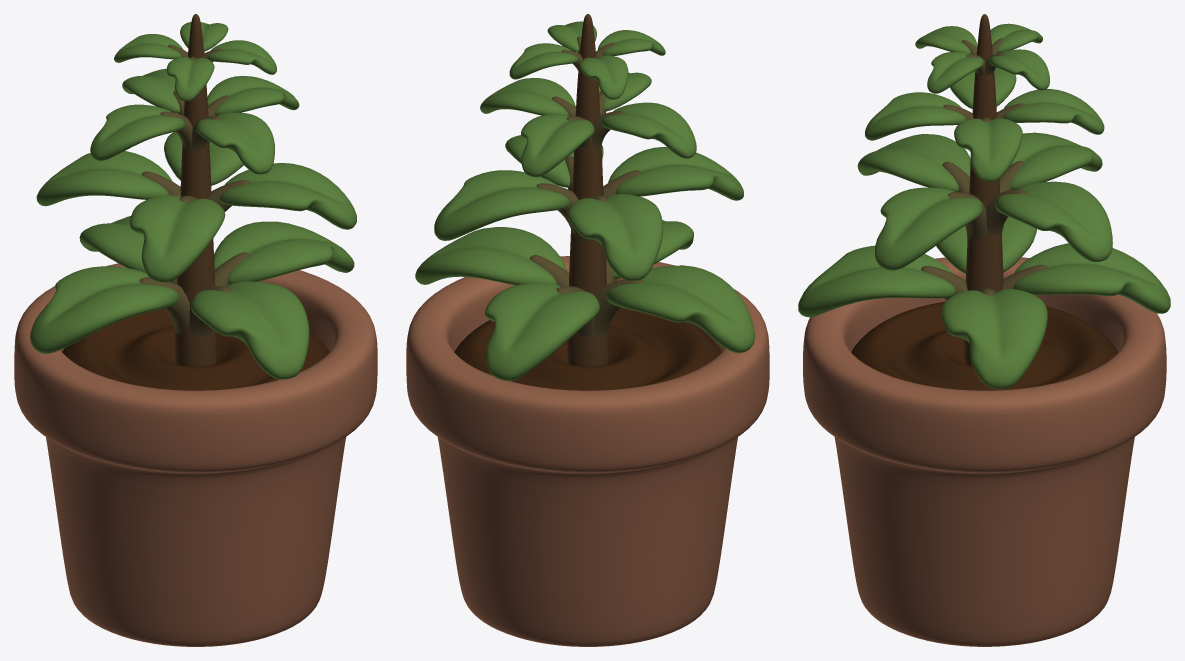
The model's file is Plant_Leafy_Grown_Pot.glb.
The picture shows the model from 3 angles, left to right: view 1: azimuth 30°, elevation 25°; view 2: azimuth 150°, elevation 25°; view 3: azimuth 270°, elevation 25°; orthographic projection.
Visible parts, largest first — view 1: Plant_Leafy_Grown_Pot_Body, Plant_Leafy_Grown_Pot_Soil, Plant_Leafy_Grown_Pot_Leaf02, Plant_Leafy_Grown_Pot_Leaf01, Plant_Leafy_Grown_Pot_Leaf04, Plant_Leafy_Grown_Pot_Leaf05, Plant_Leafy_Grown_Pot_Leaf08, Plant_Leafy_Grown_Pot_Stem, Plant_Leafy_Grown_Pot_Leaf06, Plant_Leafy_Grown_Pot_Leaf10, Plant_Leafy_Grown_Pot_Leaf09, Plant_Leafy_Grown_Pot_Leaf12 (+7 smaller); view 2: Plant_Leafy_Grown_Pot_Body, Plant_Leafy_Grown_Pot_Soil, Plant_Leafy_Grown_Pot_Leaf02, Plant_Leafy_Grown_Pot_Leaf03, Plant_Leafy_Grown_Pot_Leaf04, Plant_Leafy_Grown_Pot_Stem, Plant_Leafy_Grown_Pot_Leaf07, Plant_Leafy_Grown_Pot_Leaf06, Plant_Leafy_Grown_Pot_Leaf05, Plant_Leafy_Grown_Pot_Leaf10, Plant_Leafy_Grown_Pot_Leaf11, Plant_Leafy_Grown_Pot_Leaf12 (+7 smaller); view 3: Plant_Leafy_Grown_Pot_Body, Plant_Leafy_Grown_Pot_Soil, Plant_Leafy_Grown_Pot_Leaf04, Plant_Leafy_Grown_Pot_Leaf03, Plant_Leafy_Grown_Pot_Leaf01, Plant_Leafy_Grown_Pot_Leaf08, Plant_Leafy_Grown_Pot_Leaf07, Plant_Leafy_Grown_Pot_Leaf05, Plant_Leafy_Grown_Pot_Stem, Plant_Leafy_Grown_Pot_Leaf06, Plant_Leafy_Grown_Pot_Leaf12, Plant_Leafy_Grown_Pot_Leaf09 (+7 smaller).
Part boxes in pixels (x1,y1,x2,y2): Plant_Leafy_Grown_Pot_Body: [14, 263, 377, 646]; Plant_Leafy_Grown_Pot_Soil: [62, 308, 329, 390]; Plant_Leafy_Grown_Pot_Leaf02: [30, 266, 189, 353]; Plant_Leafy_Grown_Pot_Leaf01: [189, 281, 309, 379]; Plant_Leafy_Grown_Pot_Leaf04: [214, 221, 354, 286]; Plant_Leafy_Grown_Pot_Leaf05: [130, 195, 225, 282]; Plant_Leafy_Grown_Pot_Leaf08: [206, 163, 356, 249]; Plant_Leafy_Grown_Pot_Stem: [175, 14, 216, 366]; Plant_Leafy_Grown_Pot_Leaf06: [36, 151, 180, 206]; Plant_Leafy_Grown_Pot_Leaf10: [90, 104, 192, 160]; Plant_Leafy_Grown_Pot_Leaf09: [191, 112, 274, 174]; Plant_Leafy_Grown_Pot_Leaf12: [207, 76, 299, 116]; Plant_Leafy_Grown_Pot_Body: [406, 256, 769, 646]; Plant_Leafy_Grown_Pot_Soil: [454, 307, 721, 390]; Plant_Leafy_Grown_Pot_Leaf02: [594, 265, 754, 352]; Plant_Leafy_Grown_Pot_Leaf03: [485, 283, 599, 380]; Plant_Leafy_Grown_Pot_Leaf04: [415, 227, 569, 286]; Plant_Leafy_Grown_Pot_Stem: [567, 14, 608, 366]; Plant_Leafy_Grown_Pot_Leaf07: [434, 170, 581, 243]; Plant_Leafy_Grown_Pot_Leaf06: [567, 194, 663, 280]; Plant_Leafy_Grown_Pot_Leaf05: [603, 147, 743, 200]; Plant_Leafy_Grown_Pot_Leaf10: [592, 102, 696, 158]; Plant_Leafy_Grown_Pot_Leaf11: [521, 114, 594, 177]; Plant_Leafy_Grown_Pot_Leaf12: [480, 78, 575, 116]; Plant_Leafy_Grown_Pot_Body: [803, 257, 1166, 646]; Plant_Leafy_Grown_Pot_Soil: [851, 301, 1118, 390]; Plant_Leafy_Grown_Pot_Leaf04: [940, 288, 1047, 389]; Plant_Leafy_Grown_Pot_Leaf03: [1002, 243, 1170, 313]; Plant_Leafy_Grown_Pot_Leaf01: [798, 245, 967, 317]; Plant_Leafy_Grown_Pot_Leaf08: [875, 187, 987, 270]; Plant_Leafy_Grown_Pot_Leaf07: [986, 181, 1112, 262]; Plant_Leafy_Grown_Pot_Leaf05: [857, 134, 970, 193]; Plant_Leafy_Grown_Pot_Stem: [964, 14, 1003, 365]; Plant_Leafy_Grown_Pot_Leaf06: [999, 132, 1102, 192]; Plant_Leafy_Grown_Pot_Leaf12: [954, 117, 1022, 182]; Plant_Leafy_Grown_Pot_Leaf09: [865, 92, 973, 140].
Size of the model in its own units: 1.34 by 2.32 by 1.34.
